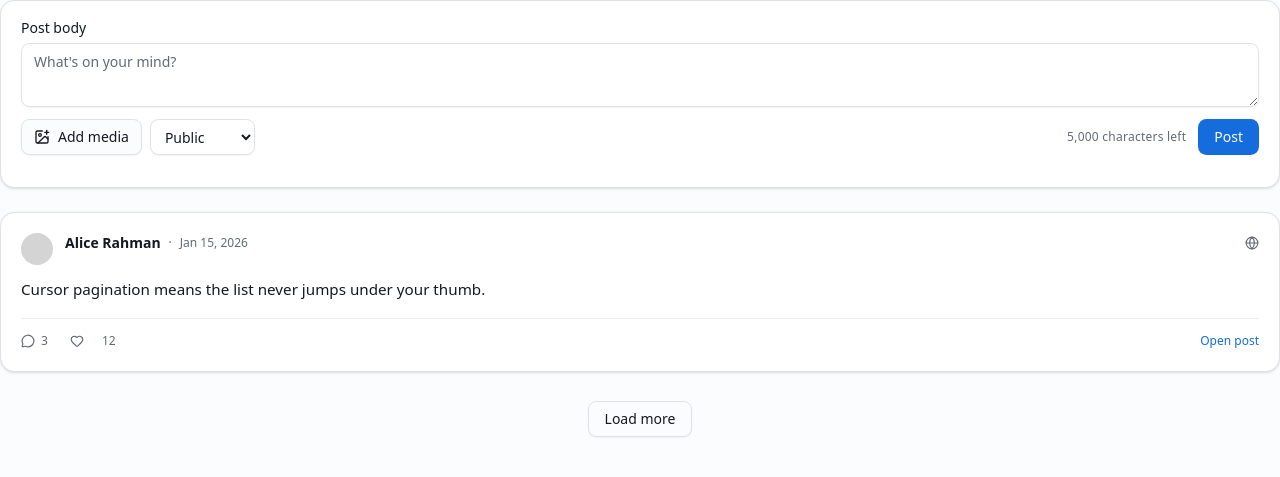
Scenario: HomeFeed › reports a failed load-more without losing the posts already shown
The width and height of the screenshot is (1280, 477).
Expected: the text "Cursor pagination means the list never jumps under your thumb." is shown, [21,279,485,299]
Step 1. Click the button "Load more" → [640, 419], box [588,401,692,437]
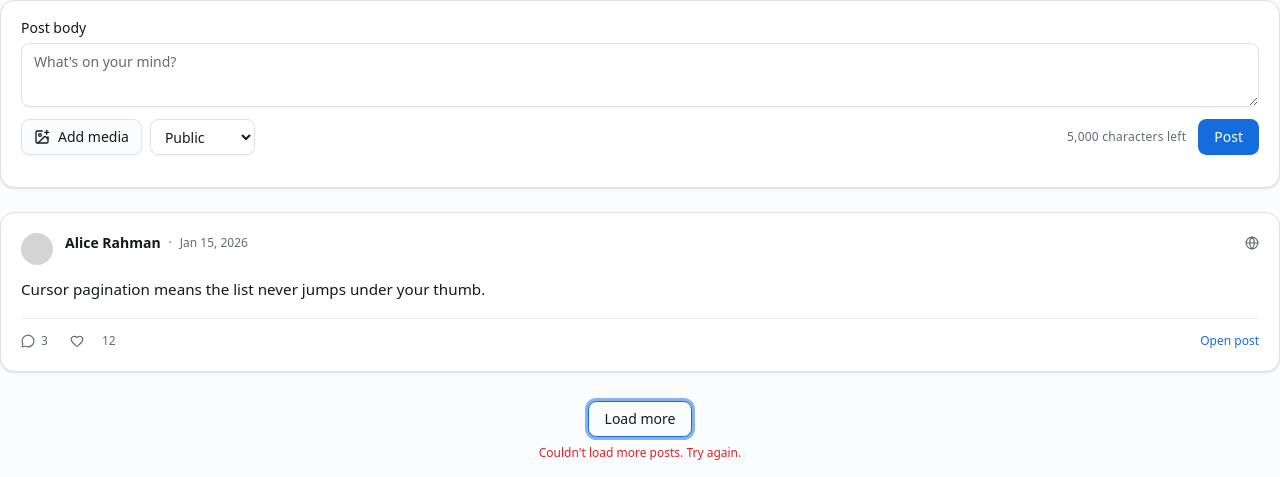
Expected: the text "Cursor pagination means the list never jumps under your thumb." is shown, [21,279,485,299]
Now the text "Couldn't load more posts. Try again." is shown, box [539,445,741,461]
